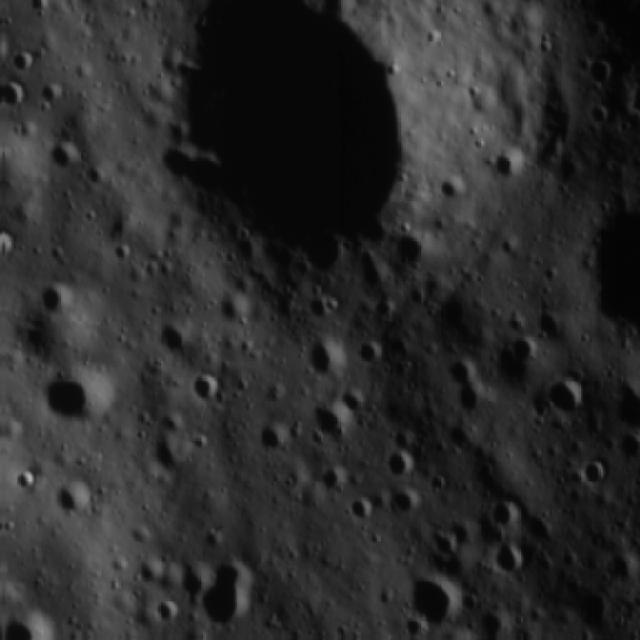crater: (156, 0, 434, 298), (586, 205, 640, 342), (184, 558, 251, 636), (38, 370, 111, 436), (393, 576, 461, 633), (308, 402, 360, 456), (534, 374, 586, 424), (300, 335, 348, 388), (39, 132, 87, 183), (45, 477, 93, 525), (32, 278, 74, 322), (447, 384, 493, 422), (386, 236, 426, 278), (178, 374, 220, 414), (484, 542, 527, 581), (529, 308, 568, 350), (147, 326, 190, 362), (485, 150, 527, 185), (484, 498, 524, 534), (384, 492, 424, 528), (607, 389, 640, 432), (247, 421, 285, 457), (352, 334, 386, 372), (439, 355, 478, 388), (380, 452, 418, 485), (571, 458, 607, 492), (505, 336, 540, 370), (142, 597, 176, 631), (607, 435, 640, 470), (4, 47, 38, 79), (341, 498, 376, 528), (0, 78, 25, 118), (8, 466, 35, 500), (632, 112, 640, 156)
